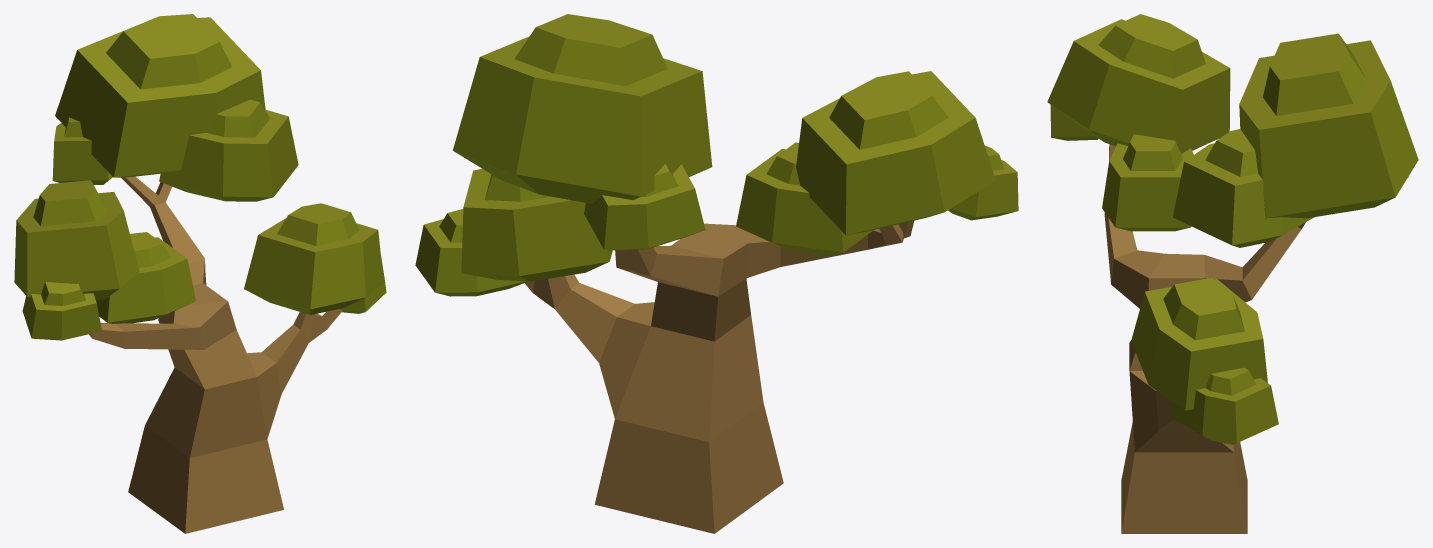
Rendered from ST_Env_Tree_Green_02.fbx.
3 renders of one model, left to right at view 1: azimuth 30°, elevation 25°; view 2: azimuth 150°, elevation 25°; view 3: azimuth 270°, elevation 25°, orthographic. The views are drawn at different scales.
Parts seen in each view (by area): view 1: ST_Env_Tree_Green_02; view 2: ST_Env_Tree_Green_02; view 3: ST_Env_Tree_Green_02.
Part boxes in pixels (box(x1,y1,x2,y2)): ST_Env_Tree_Green_02: box(14, 14, 386, 533); ST_Env_Tree_Green_02: box(415, 14, 1018, 533); ST_Env_Tree_Green_02: box(1047, 14, 1418, 533).
Size of the model in its own units: 7.92 by 7.54 by 5.42.
